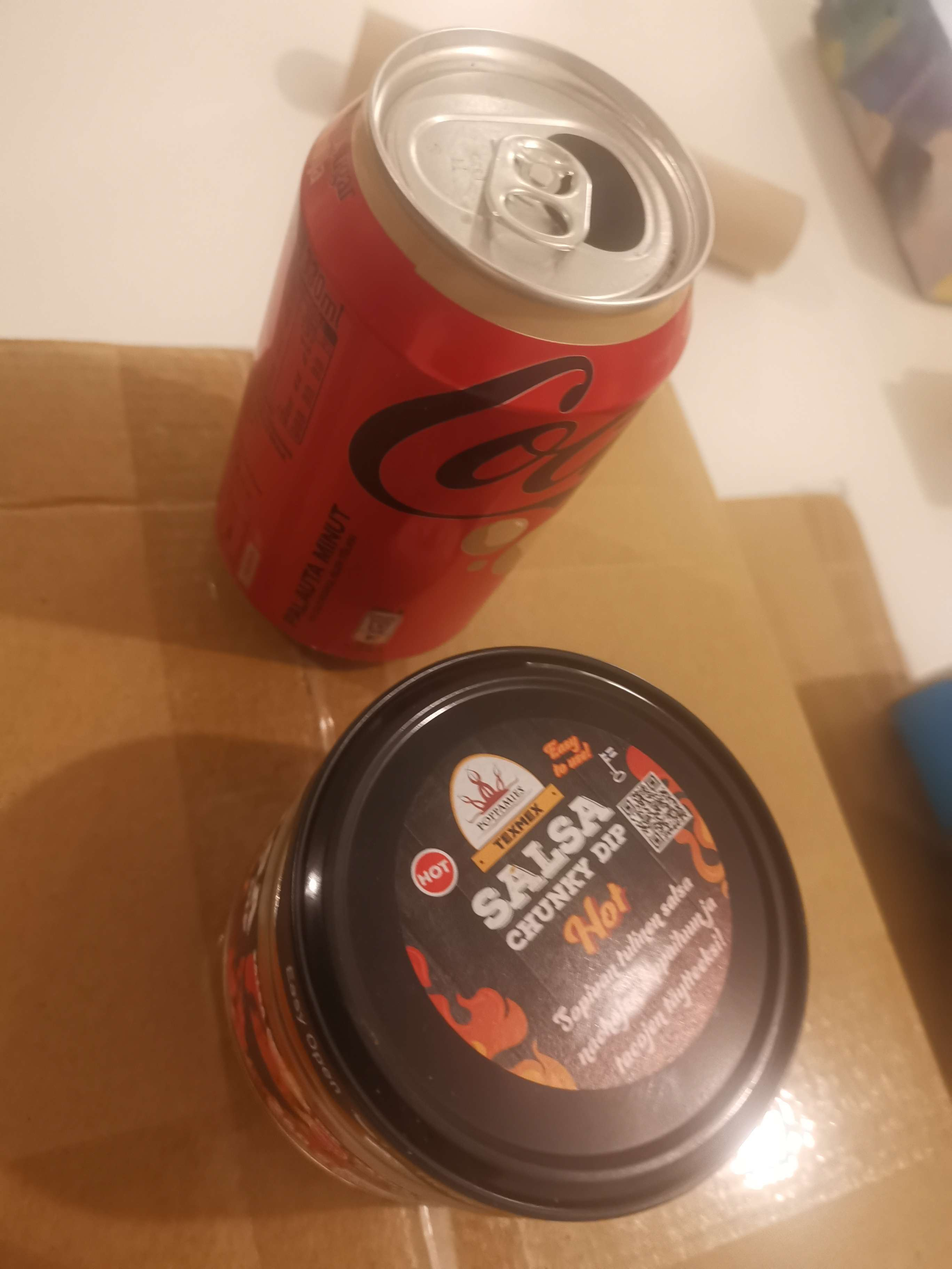Pantburk: (212, 30, 717, 662)
